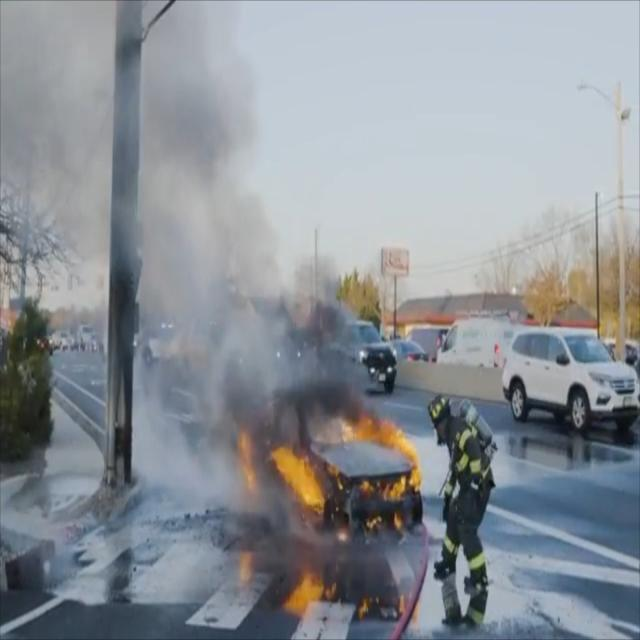fire: (234, 388, 424, 528)
